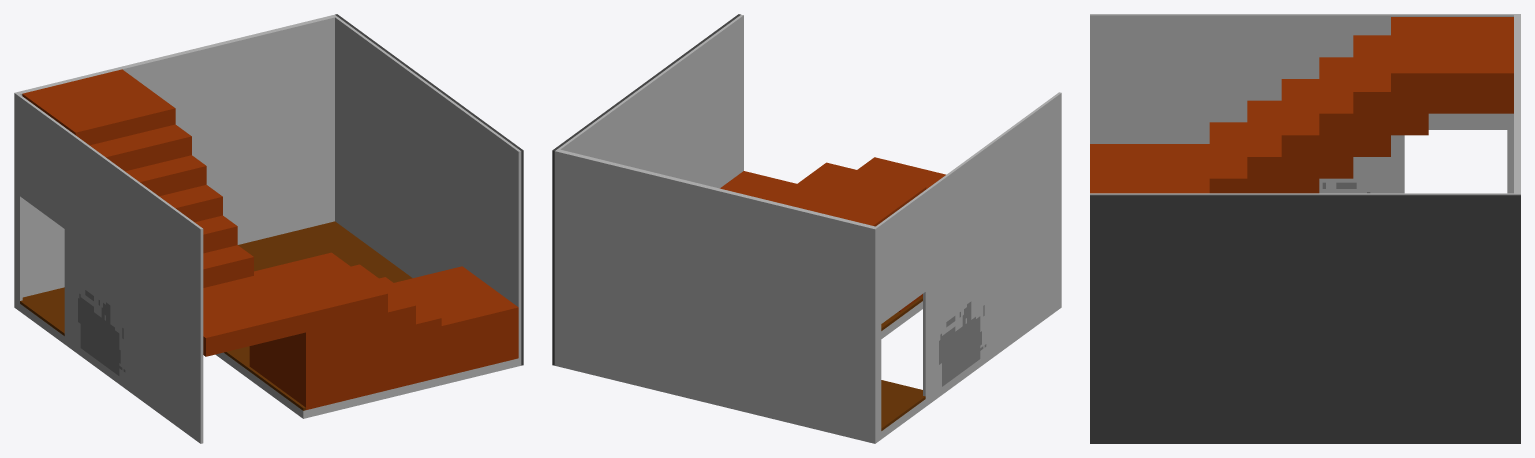
File: 4x2 second (2)-2.obj
3 renders of one model, left to right at view 1: azimuth 30°, elevation 25°; view 2: azimuth 150°, elevation 25°; view 3: azimuth 270°, elevation 25°, orthographic. The views are drawn at different scales.
Visible parts, largest first — view 1: 4x2 second (2)-2; view 2: 4x2 second (2)-2; view 3: 4x2 second (2)-2.
Part boxes in pixels (box(x1,y1,x2,y2)): 4x2 second (2)-2: box(14, 14, 523, 443); 4x2 second (2)-2: box(552, 14, 1061, 443); 4x2 second (2)-2: box(1090, 14, 1520, 443).
Size of the model in its own units: 126 by 80 by 126.
1 material, 1 textured.
